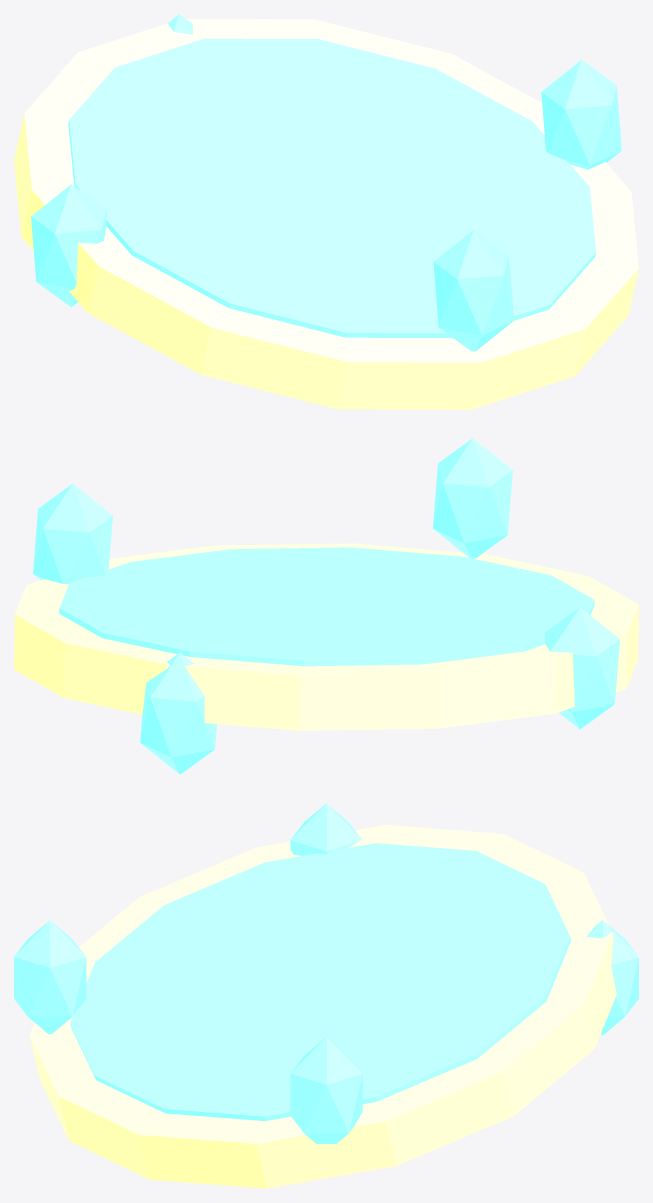
File: RingCrown.glb
3 views of the same model, one above another, from view 1: azimuth 30°, elevation 25°; view 2: azimuth 150°, elevation 25°; view 3: azimuth 270°, elevation 25° (orthographic). The views are drawn at different scales.
Parts seen in each view (by area): view 1: Glow.007, Gold.014, Glow.011, Glow.008, Glow.010; view 2: Glow.007, Gold.014, Glow.011, Glow.008, Glow.009, Glow.010; view 3: Glow.007, Gold.014, Glow.011, Glow.008, Glow.009, Glow.010.
Boxes of the visible parts, bbox=[...] form: Glow.007: bbox=[68, 38, 595, 338]; Gold.014: bbox=[14, 19, 638, 409]; Glow.011: bbox=[433, 230, 513, 351]; Glow.008: bbox=[541, 59, 621, 169]; Glow.010: bbox=[31, 184, 106, 307]; Glow.007: bbox=[59, 547, 594, 666]; Gold.014: bbox=[14, 543, 638, 730]; Glow.011: bbox=[433, 438, 512, 558]; Glow.008: bbox=[33, 483, 112, 583]; Glow.009: bbox=[140, 652, 216, 774]; Glow.010: bbox=[545, 607, 619, 729]; Glow.007: bbox=[70, 843, 570, 1120]; Gold.014: bbox=[29, 825, 616, 1188]; Glow.011: bbox=[14, 920, 86, 1034]; Glow.008: bbox=[290, 1037, 362, 1143]; Glow.009: bbox=[586, 920, 638, 1035]; Glow.010: bbox=[290, 803, 361, 855].
Bounding box in the file's own units: 0.5916 × 0.1764 × 0.5881.
